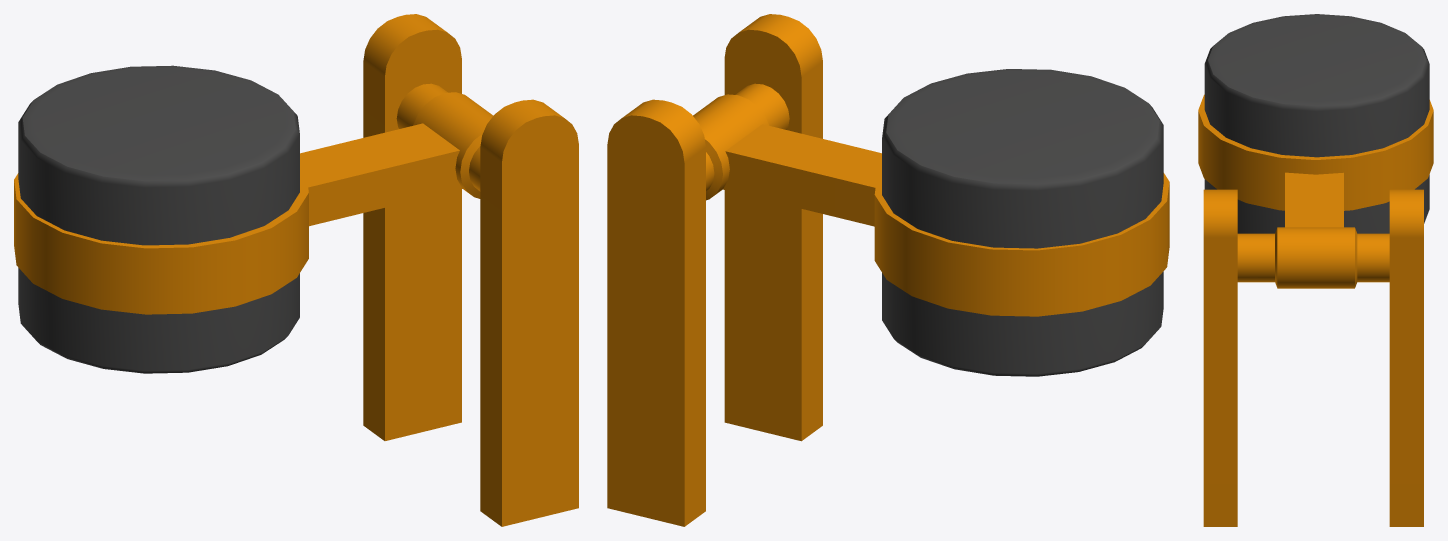
3 views of the same model, side by side, from view 1: azimuth 30°, elevation 25°; view 2: azimuth 150°, elevation 25°; view 3: azimuth 270°, elevation 25° (orthographic). The views are drawn at different scales.
Parts seen in each view (by area): view 1: pCube4, pCube3; view 2: pCube4, pCube3; view 3: pCube4, pCube3.
Part boxes in pixels (x1,y1,x2,y2): pCube4: (14,65,462,373); pCube3: (363,14,578,526); pCube4: (722,69,1169,376); pCube3: (607,14,822,526); pCube4: (1198,14,1433,233); pCube3: (1203,189,1423,526).
Size of the model in its own units: 2.67 by 2.25 by 1.44.
